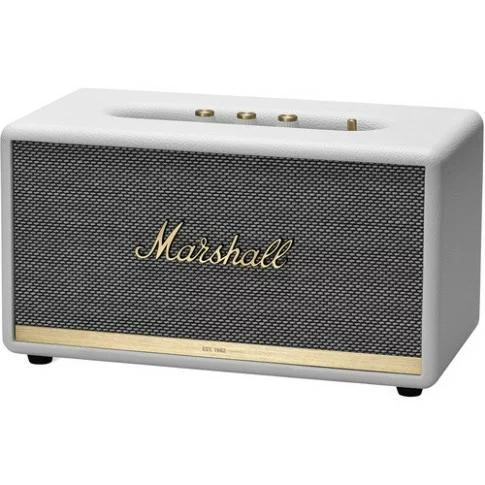speaker: (0, 84, 482, 399)
